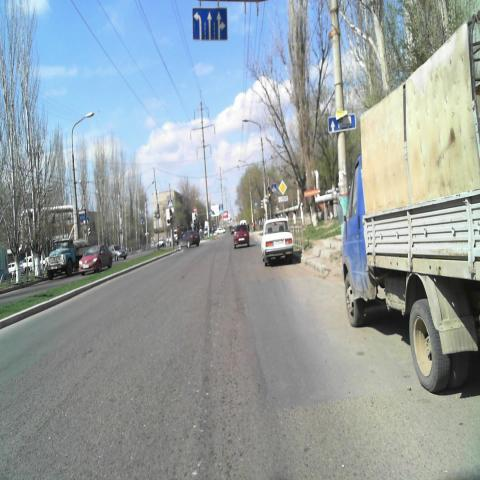5_15_1: (192, 10, 228, 42)
